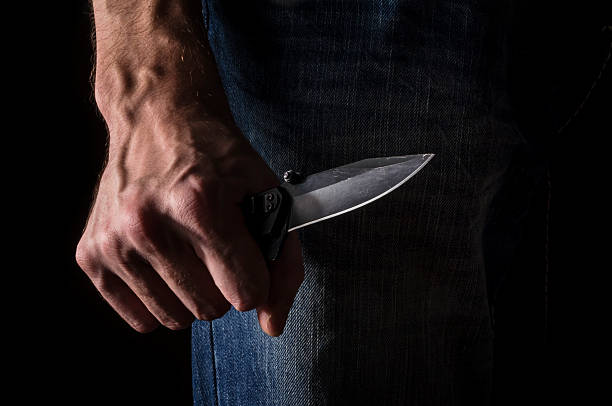knife: (239, 149, 437, 268)
